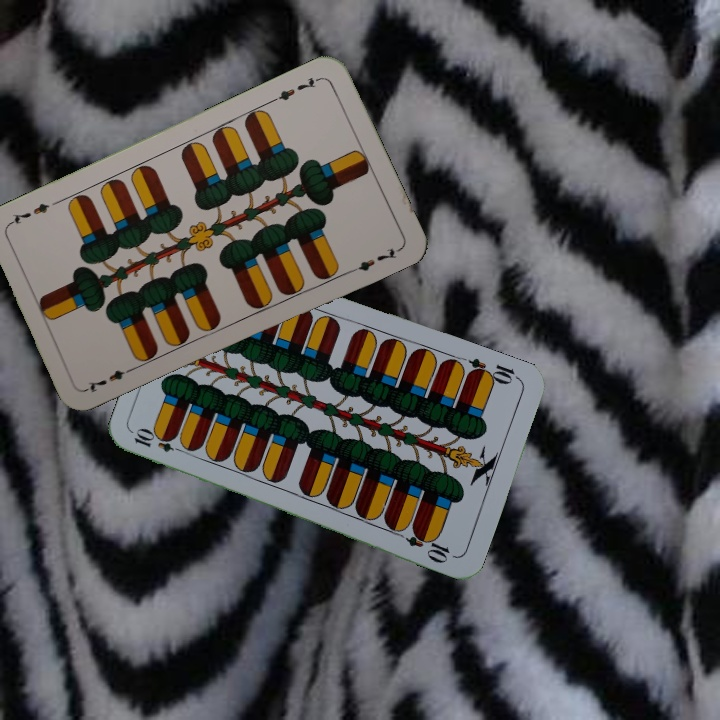E10: (463, 354, 522, 388), (130, 427, 189, 456)
E7: (83, 362, 139, 395), (268, 73, 324, 105)
